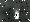person: (14, 6, 21, 19)
